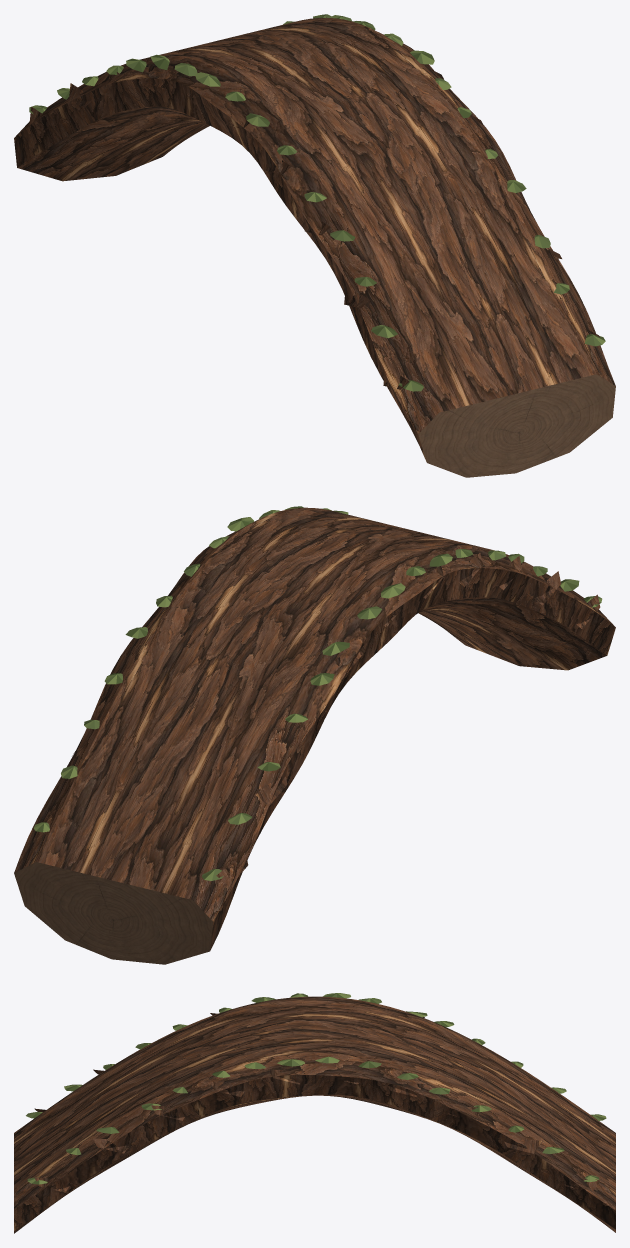
3 renders of one model, top to bottom at view 1: azimuth 30°, elevation 25°; view 2: azimuth 150°, elevation 25°; view 3: azimuth 270°, elevation 25°, orthographic. The views are drawn at different scales.
Visible parts, largest first — view 1: arched-root-walkway · evaluated preview mesh; view 2: arched-root-walkway · evaluated preview mesh; view 3: arched-root-walkway · evaluated preview mesh.
Part boxes in pixels (x1,y1,x2,y2): arched-root-walkway · evaluated preview mesh: [14, 14, 615, 477]; arched-root-walkway · evaluated preview mesh: [14, 506, 615, 964]; arched-root-walkway · evaluated preview mesh: [14, 993, 615, 1233].
Bounding box in the file's own units: 7.1 × 8.6 × 24.
Materials: 5 (2 with a texture image).
